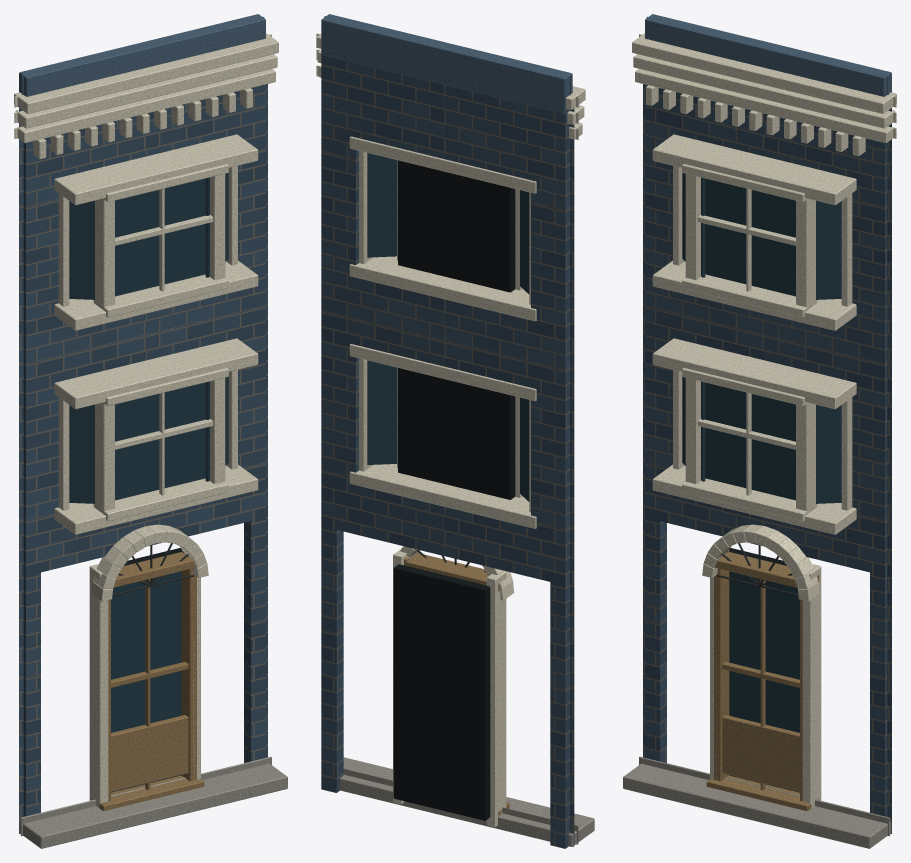
The model's file is VICT13_lod1.glb.
3 views of the same model, side by side, from view 1: azimuth 30°, elevation 25°; view 2: azimuth 150°, elevation 25°; view 3: azimuth 330°, elevation 25° (orthographic).
Visible parts, largest first — view 1: VICT13_FRONT_LOD1; view 2: VICT13_FRONT_LOD1; view 3: VICT13_FRONT_LOD1.
Part boxes in pixels (x1=…): VICT13_FRONT_LOD1: x1=14, y1=14, x2=287, y2=848; VICT13_FRONT_LOD1: x1=316, y1=14, x2=594, y2=848; VICT13_FRONT_LOD1: x1=623, y1=14, x2=896, y2=848.
Bounding box in the file's own units: 3.44 × 9.66 × 0.765.
9 materials, 7 textured.
